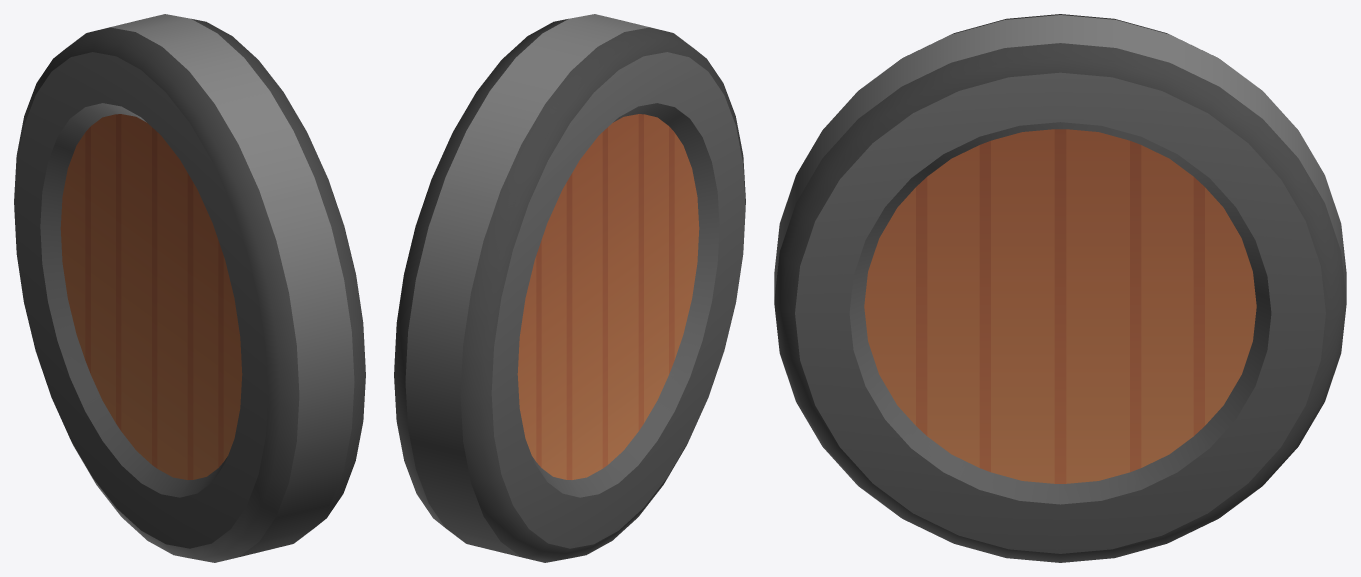
File: Shield_V2_00.fbx
The picture shows the model from 3 angles, left to right: view 1: azimuth 30°, elevation 25°; view 2: azimuth 150°, elevation 25°; view 3: azimuth 270°, elevation 25°; orthographic projection. The views are drawn at different scales.
Visible parts, largest first — view 1: Shield_V2_00; view 2: Shield_V2_00; view 3: Shield_V2_00.
Boxes of the visible parts, bbox=[...] form: Shield_V2_00: bbox=[14, 14, 365, 562]; Shield_V2_00: bbox=[394, 14, 745, 562]; Shield_V2_00: bbox=[774, 14, 1346, 562].
Size of the model in its own units: 8.29 by 40.37 by 40.37.
